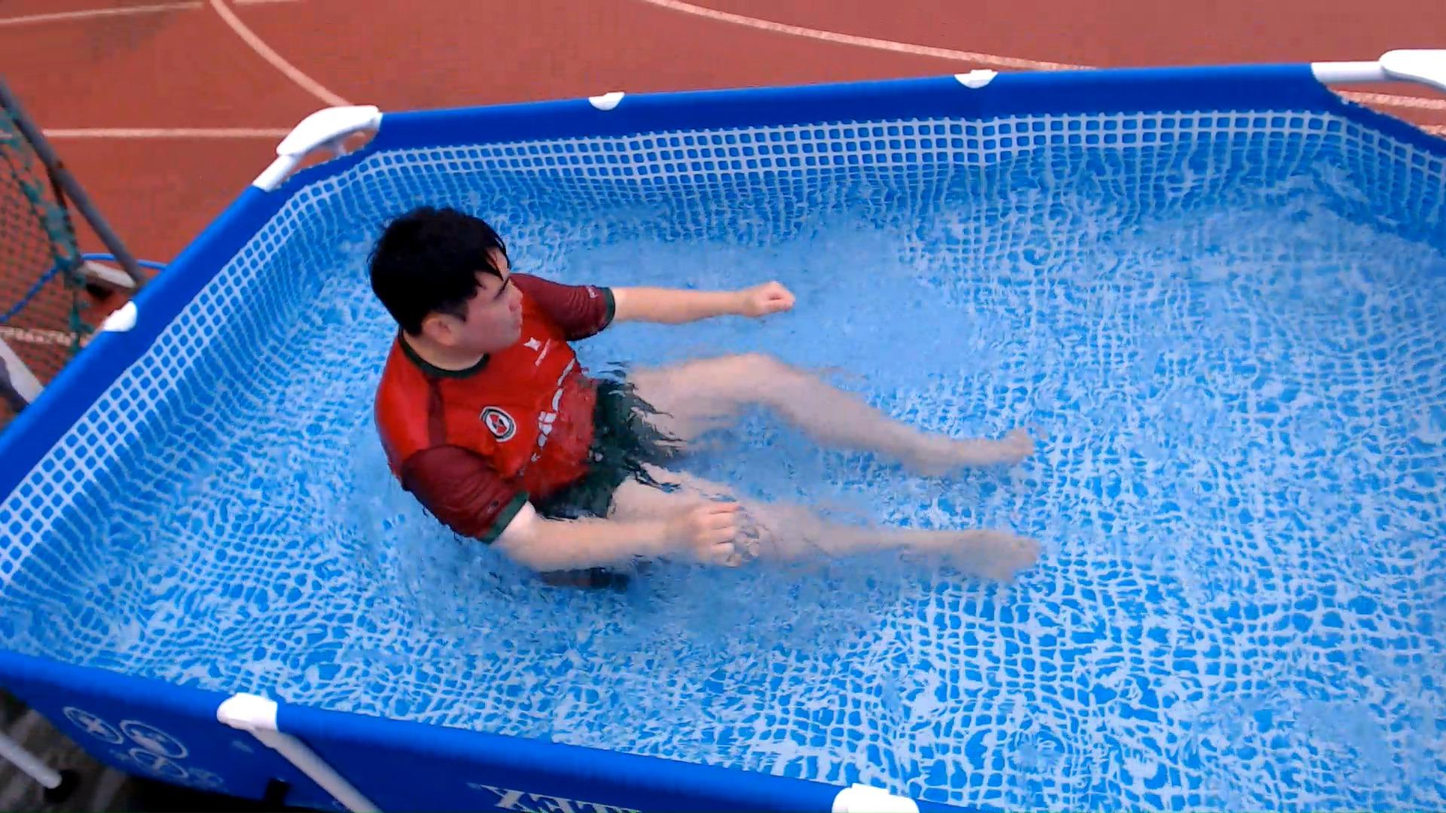Swimming: (299, 145, 1125, 632)
